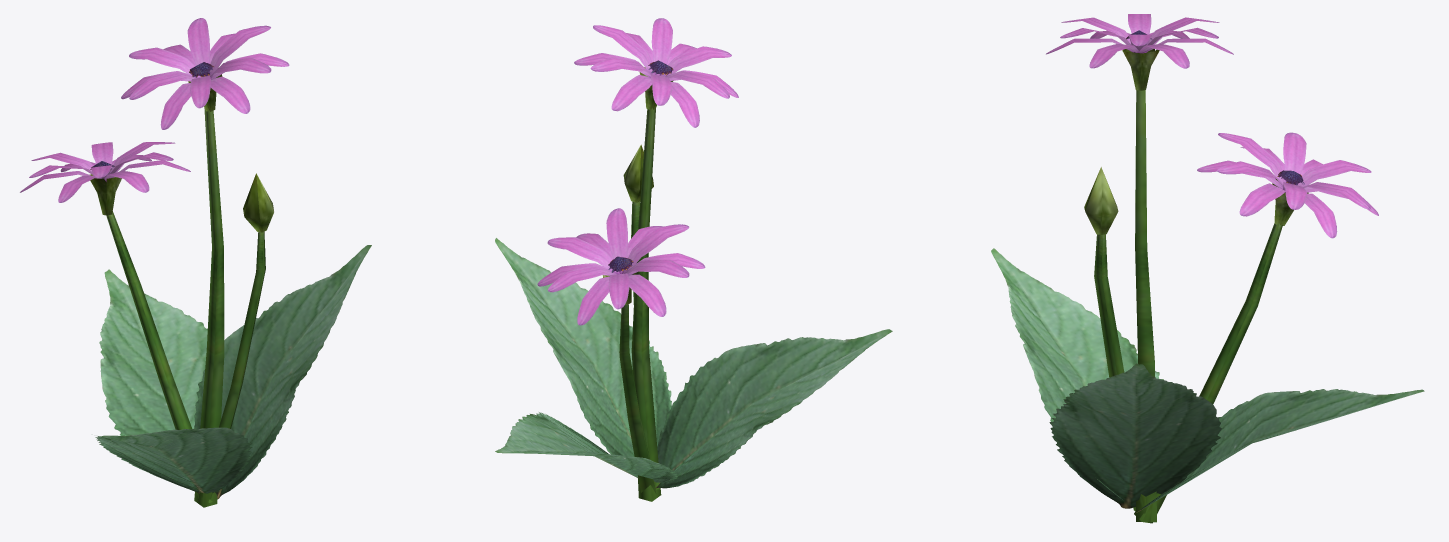
Rendered from pinkf4.fbx.
3 renders of one model, left to right at view 1: azimuth 30°, elevation 25°; view 2: azimuth 150°, elevation 25°; view 3: azimuth 270°, elevation 25°, orthographic. The views are drawn at different scales.
Visible parts, largest first — view 1: pinkf04; view 2: pinkf04; view 3: pinkf04.
Part boxes in pixels (left/top/right/bottom): pinkf04: left=20, top=18, right=371, bottom=507; pinkf04: left=495, top=18, right=892, bottom=501; pinkf04: left=991, top=14, right=1424, bottom=523.
Bounding box in the file's own units: 25.08 × 28.77 × 25.97.
